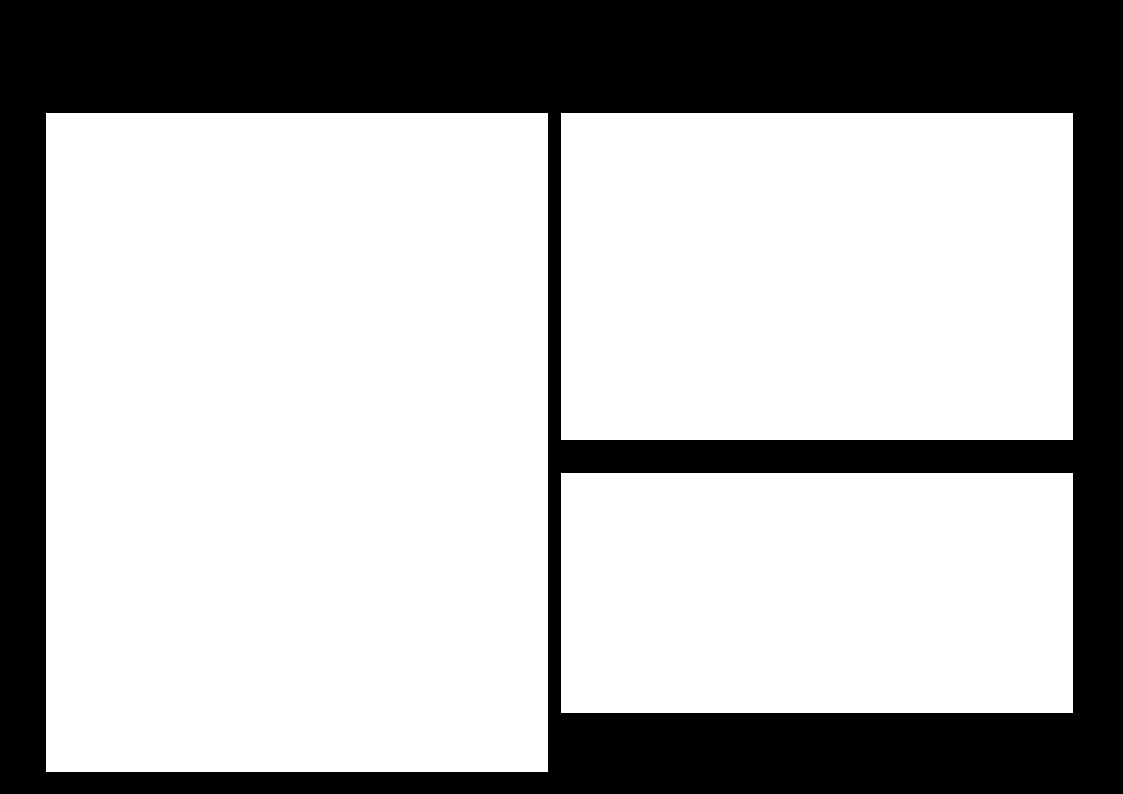table: (46, 113, 547, 771), (561, 113, 1072, 439), (561, 473, 1072, 712)
